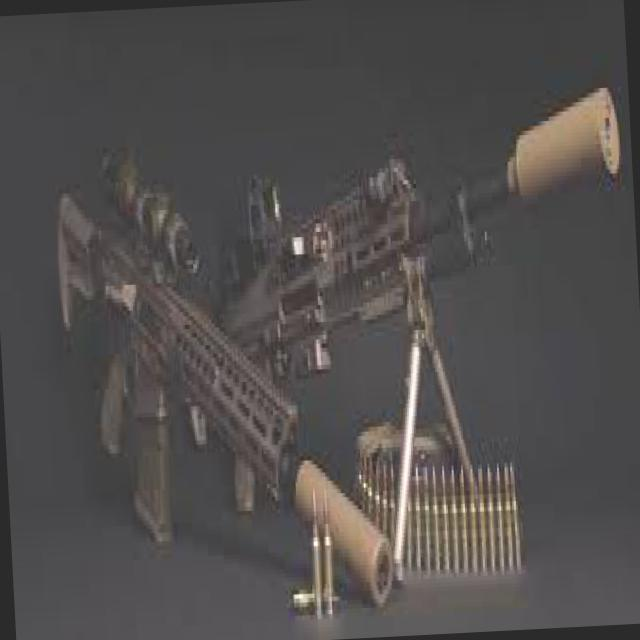long weapon: (41, 146, 380, 630), (197, 44, 622, 388)
